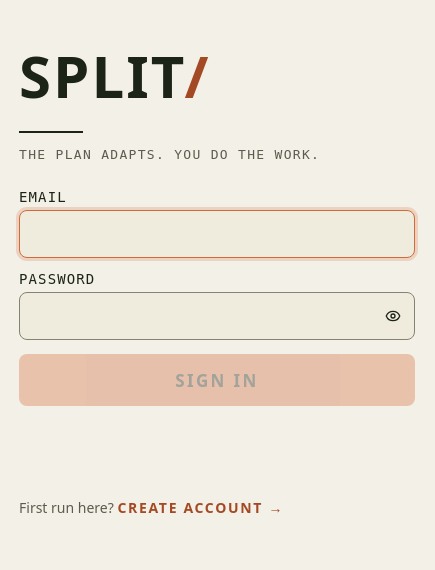
Test: LoginPage › server-side error surfacing › falls back to a generic alert when the server omits a title
Type "runner@example.com" into the field labelled "Email" at [217, 234], box 19,210 -> 415,258
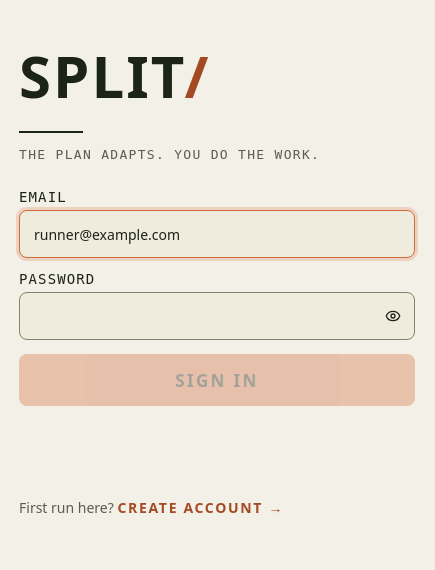
Type "StrongPassw0rd!" into the password field labelled "Password" at [217, 316], box 19,292 -> 415,340
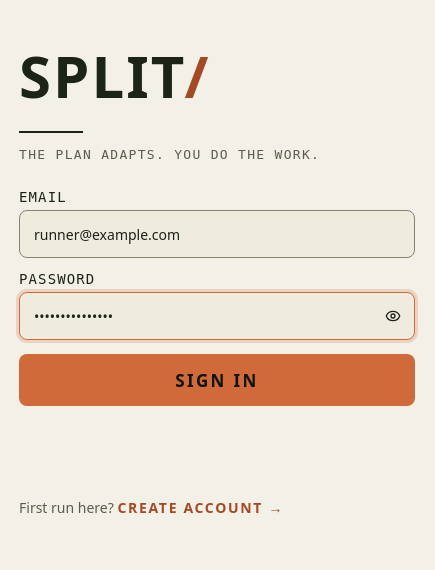
Check: the button "Sign in" is enabled
Click the button "Sign in" at [217, 380], box 19,354 -> 415,406
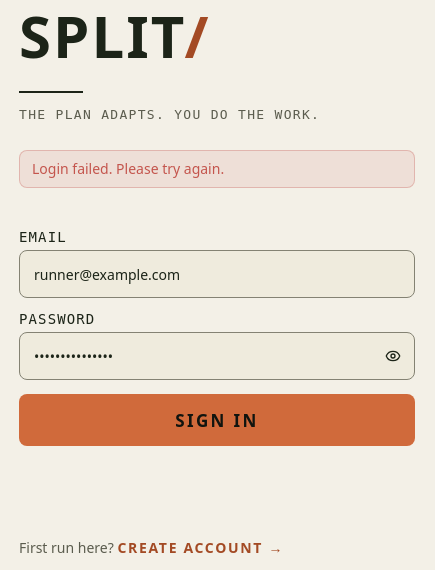
Check: the message with test id "form-alert" shows "Login failed", box 32,159 -> 224,178
